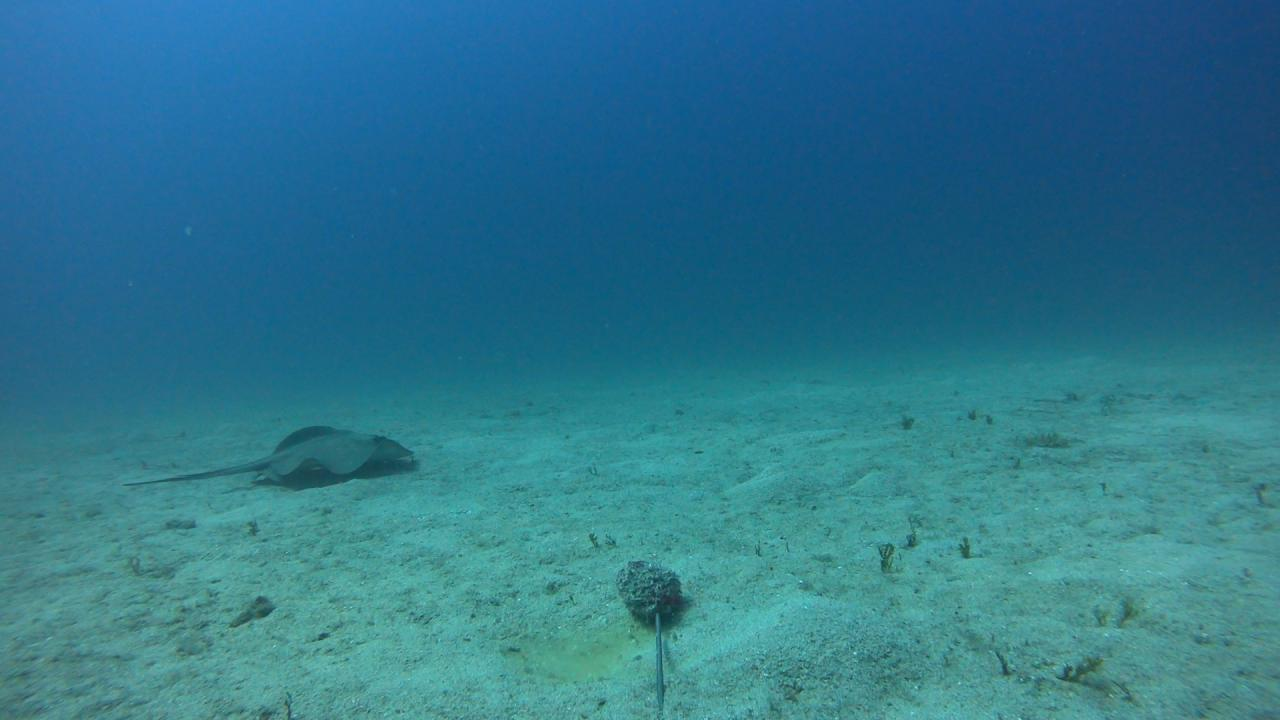dasyatis: (119, 422, 418, 486)
